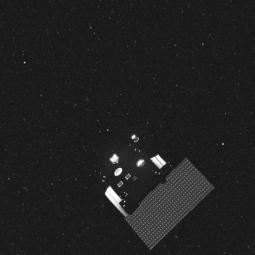proba_3_csc: (86, 114, 222, 255)
